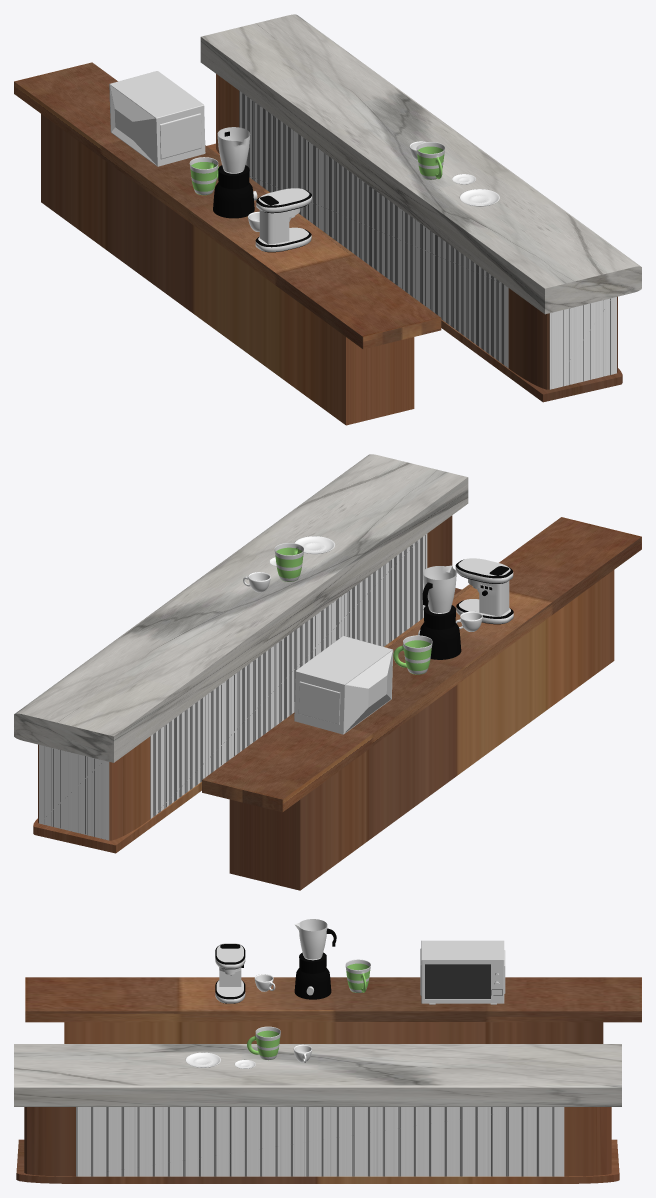
Rendered from counter.glb.
3 renders of one model, top to bottom at view 1: azimuth 30°, elevation 25°; view 2: azimuth 150°, elevation 25°; view 3: azimuth 270°, elevation 25°, orthographic. The views are drawn at different scales.
Parts seen in each view (by area): view 1: Cube, Cube.008, Cube.006, Cube.011, Cylinder.029, Cylinder.028, Cylinder.041, Cylinder.042, Circle.003; view 2: Cube, Cube.008, Cube.006, Cube.011, Cylinder.029, Cylinder.028, Cylinder.041, Cylinder.042; view 3: Cube, Cube.008, Cube.006, Cube.011, Cylinder.029, Cylinder.028, Cylinder.042, Cylinder.041, Circle.003.
Part boxes in pixels (x1=…): Cube: x1=200, y1=14, x2=641, y2=402; Cube.008: x1=14, y1=62, x2=441, y2=425; Cube.006: x1=109, y1=71, x2=205, y2=166; Cube.011: x1=255, y1=188, x2=311, y2=252; Cylinder.029: x1=213, y1=165, x2=257, y2=218; Cylinder.028: x1=217, y1=127, x2=250, y2=172; Cylinder.041: x1=189, y1=157, x2=218, y2=195; Cylinder.042: x1=416, y1=142, x2=444, y2=179; Circle.003: x1=459, y1=189, x2=499, y2=206; Cube: x1=14, y1=454, x2=468, y2=853; Cube.008: x1=202, y1=517, x2=641, y2=890; Cube.006: x1=294, y1=636, x2=393, y2=734; Cube.011: x1=455, y1=558, x2=513, y2=624; Cylinder.029: x1=418, y1=605, x2=461, y2=659; Cylinder.028: x1=422, y1=565, x2=456, y2=612; Cylinder.041: x1=393, y1=635, x2=432, y2=674; Cylinder.042: x1=274, y1=543, x2=303, y2=581; Cube: x1=14, y1=1044, x2=621, y2=1183; Cube.008: x1=25, y1=977, x2=641, y2=1043; Cube.006: x1=420, y1=940, x2=505, y2=1004; Cube.011: x1=215, y1=943, x2=245, y2=1003; Cylinder.029: x1=294, y1=952, x2=331, y2=999; Cylinder.028: x1=294, y1=919, x2=336, y2=959; Cylinder.042: x1=247, y1=1026, x2=280, y2=1060; Cylinder.041: x1=345, y1=959, x2=370, y2=992; Circle.003: x1=185, y1=1052, x2=220, y2=1067.
Bounding box in the file's own units: 16.21 × 10.32 × 36.65.
Materials: 15 (3 with a texture image).
